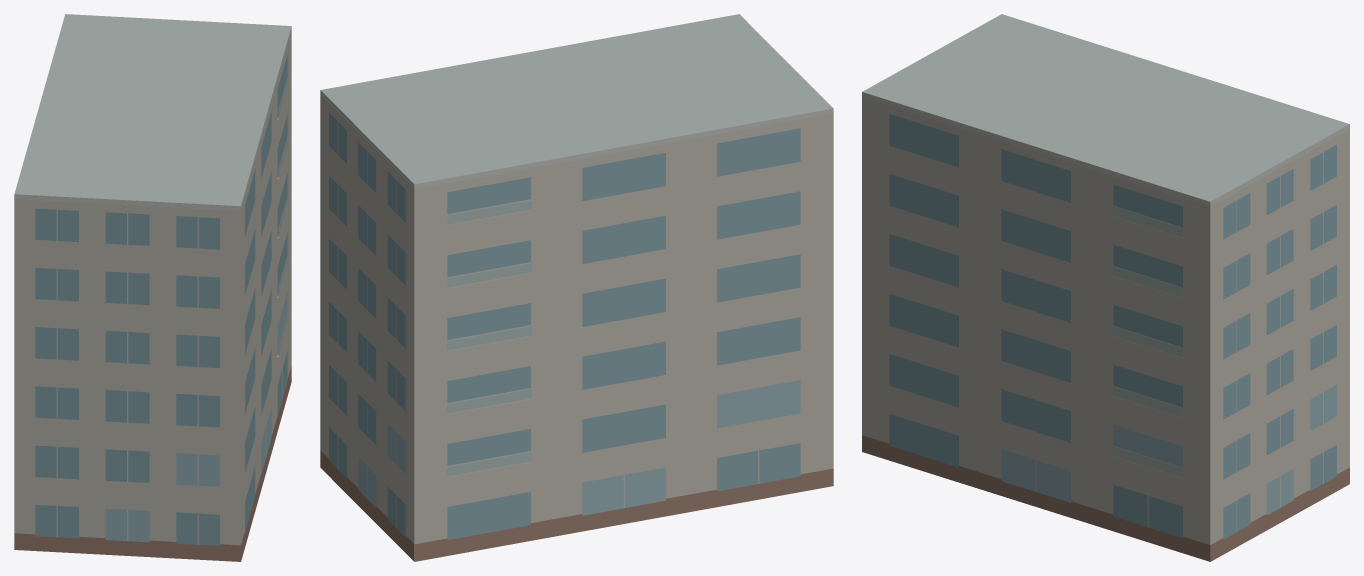
Rendered from survey-upis-32747854.glb.
3 renders of one model, left to right at view 1: azimuth 30°, elevation 25°; view 2: azimuth 150°, elevation 25°; view 3: azimuth 270°, elevation 25°, orthographic. The views are drawn at different scales.
Visible parts, largest first — view 1: survey-upis-32747854.tmp; view 2: survey-upis-32747854.tmp; view 3: survey-upis-32747854.tmp.
Part boxes in pixels (bbox=[...]): survey-upis-32747854.tmp: bbox=[14, 14, 291, 561]; survey-upis-32747854.tmp: bbox=[320, 14, 833, 561]; survey-upis-32747854.tmp: bbox=[862, 14, 1349, 561].
Size of the model in its own units: 20.48 by 18.3 by 22.47.
